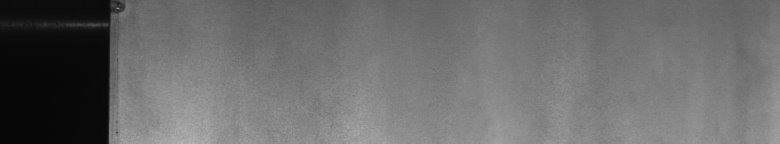hb: (120, 4, 134, 24)
